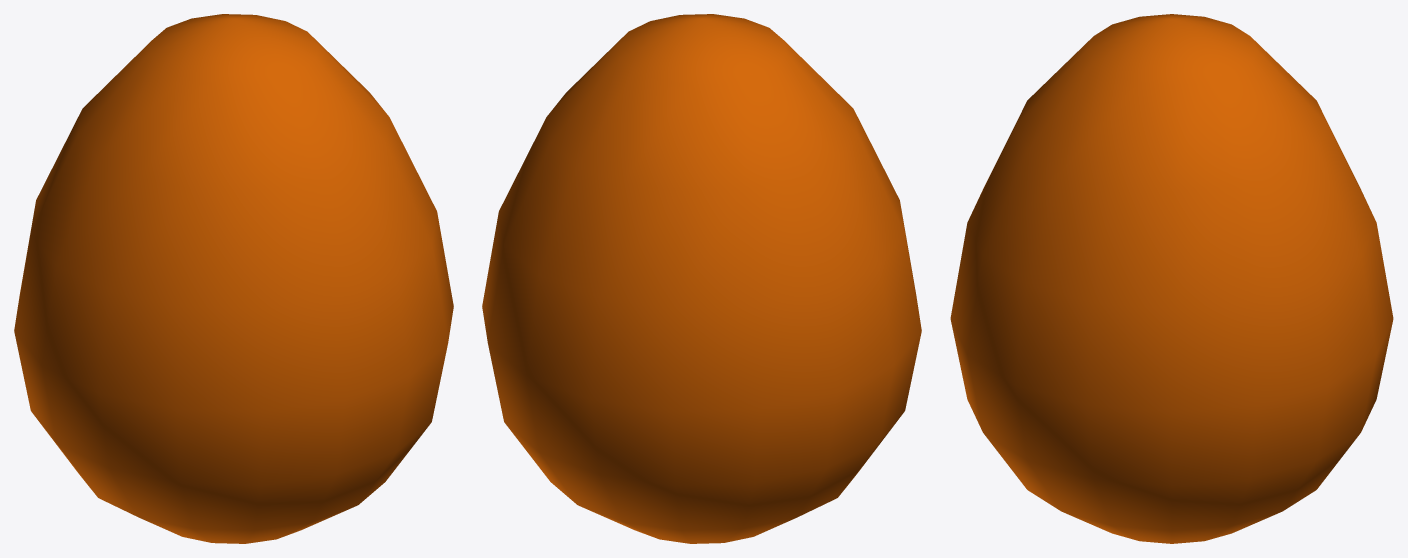
Rendered from eggBronze.glb.
3 renders of one model, left to right at view 1: azimuth 30°, elevation 25°; view 2: azimuth 150°, elevation 25°; view 3: azimuth 270°, elevation 25°, orthographic.
Visible parts, largest first — view 1: Sphere006; view 2: Sphere006; view 3: Sphere006.
Part boxes in pixels (<box>): Sphere006: <box>14,14,453,543</box>; Sphere006: <box>482,14,921,543</box>; Sphere006: <box>950,14,1393,543</box>.
Size of the model in its own units: 0.1403 by 0.1761 by 0.1403.
